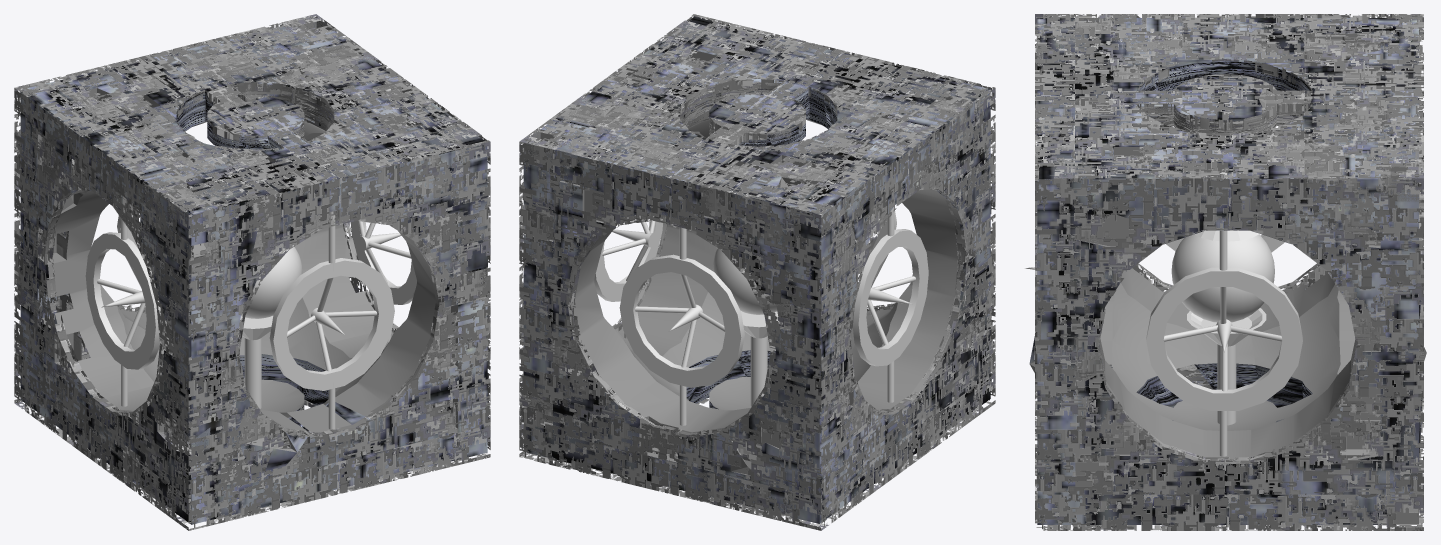
The model's file is Hqiixbg4.FBX.
3 views of the same model, side by side, from view 1: azimuth 30°, elevation 25°; view 2: azimuth 150°, elevation 25°; view 3: azimuth 270°, elevation 25° (orthographic). The views are drawn at different scales.
Parts seen in each view (by area): view 1: Box002, Box001, Cylinder005, Cylinder004, Omega, Cylinder001, Cylinder003, Cylinder016, Cylinder010, Cylinder014, Cylinder015; view 2: Box002, Box001, Cylinder006, Cylinder004, Cylinder001, Omega, Cylinder003, Cylinder017, Cylinder015, Cylinder014, Cylinder009; view 3: Box002, Box001, Cylinder003, Omega, Cylinder001, Cylinder014, Cylinder007, Cylinder002.
Part boxes in pixels (x1,y1,x2,y2): Box002: [14, 14, 490, 530]; Box001: [20, 17, 487, 524]; Cylinder005: [269, 258, 394, 390]; Cylinder004: [85, 232, 160, 369]; Omega: [241, 245, 302, 318]; Cylinder001: [239, 316, 273, 408]; Cylinder003: [350, 214, 416, 304]; Cylinder016: [287, 278, 376, 371]; Cylinder010: [328, 211, 335, 429]; Cylinder014: [358, 219, 411, 283]; Cylinder015: [97, 258, 145, 347]; Box002: [519, 14, 995, 530]; Box001: [523, 17, 990, 523]; Cylinder006: [619, 254, 744, 387]; Cylinder004: [852, 229, 928, 366]; Cylinder001: [741, 311, 778, 406]; Omega: [712, 243, 777, 314]; Cylinder003: [594, 219, 662, 301]; Cylinder017: [635, 274, 725, 367]; Cylinder015: [867, 254, 915, 345]; Cylinder014: [602, 215, 655, 281]; Cylinder009: [679, 221, 686, 425]; Box002: [1035, 14, 1423, 530]; Box001: [1029, 18, 1426, 524]; Cylinder003: [1146, 267, 1302, 410]; Omega: [1171, 234, 1274, 322]; Cylinder001: [1187, 308, 1266, 425]; Cylinder014: [1163, 287, 1282, 391]; Cylinder007: [1219, 172, 1227, 456]; Cylinder002: [1194, 230, 1259, 241].
Size of the model in its own units: 105 by 102 by 105.
Materials: 15 (9 with a texture image).
